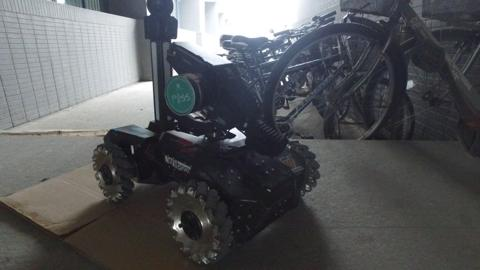bike: (259, 3, 474, 145)
chariot: (74, 1, 316, 254)
